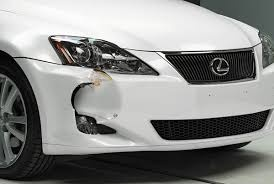Dent: (70, 70, 123, 134)
